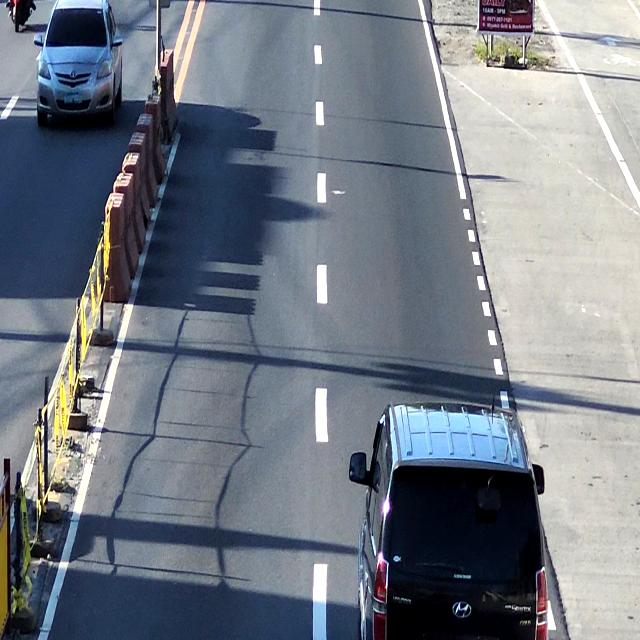Car: (355, 399, 549, 640)
